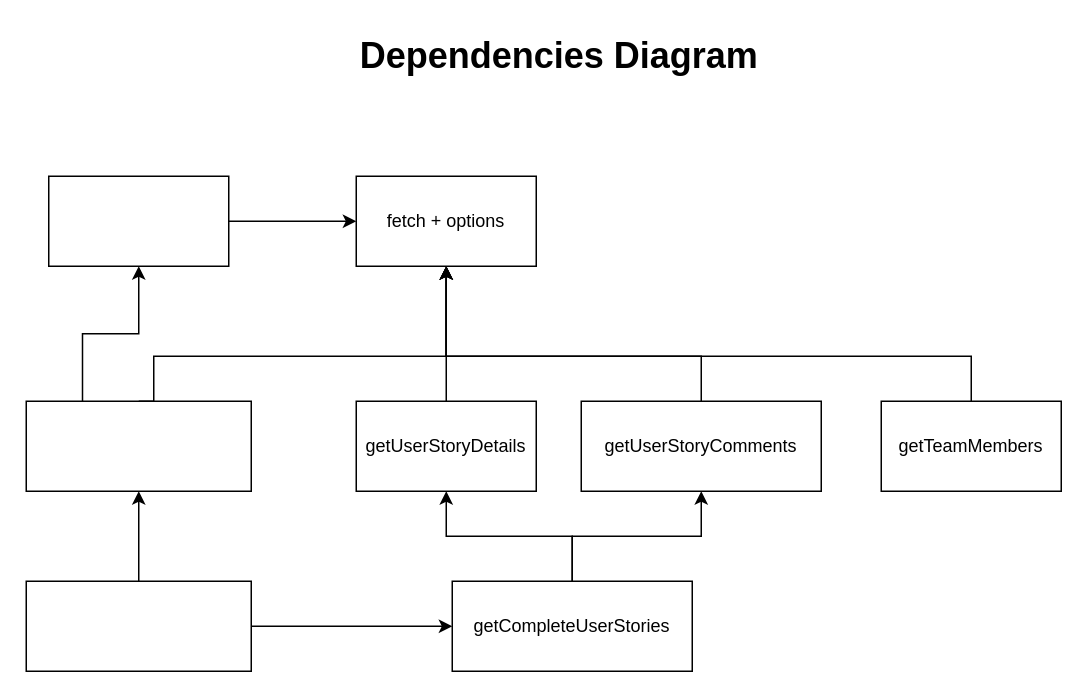
This 1088x698 diagram has some shape labels left out. Each missing label, with the centre of its shape:
getCurrentUserStories: (x=138, y=625)
getCurrentUserStoryIds: (x=138, y=445)
getTeamSettings: (x=138, y=220)
